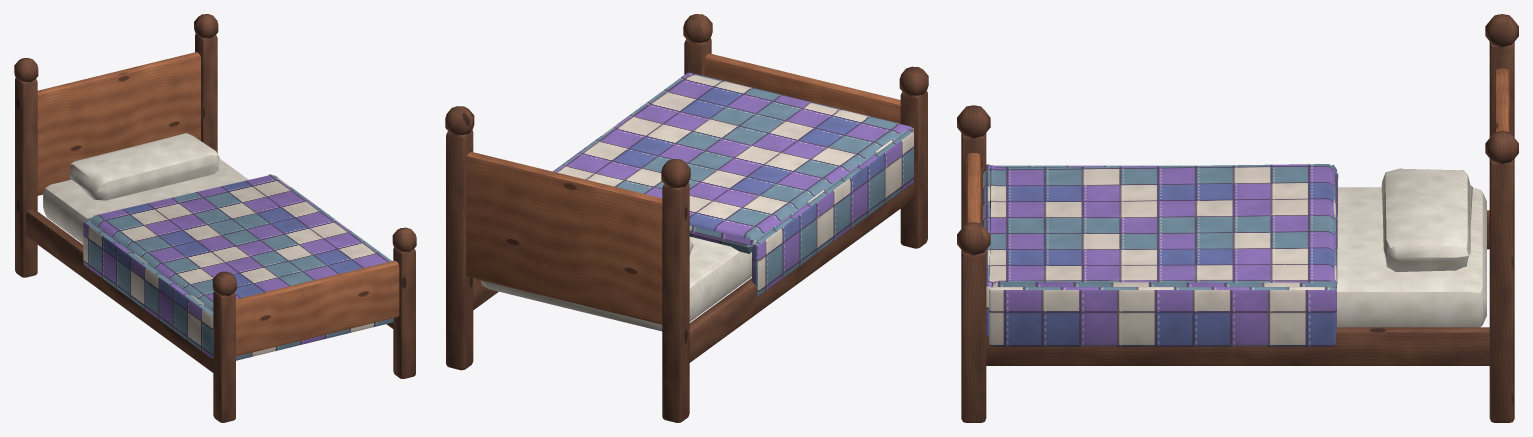
File: bed.gltf
3 views of the same model, side by side, from view 1: azimuth 30°, elevation 25°; view 2: azimuth 150°, elevation 25°; view 3: azimuth 270°, elevation 25° (orthographic). The views are drawn at different scales.
Parts seen in each view (by area): view 1: bed_mesh; view 2: bed_mesh; view 3: bed_mesh.
Part boxes in pixels (<box>): bed_mesh: <box>14,14,416,422</box>; bed_mesh: <box>445,14,928,422</box>; bed_mesh: <box>957,14,1518,422</box>.
Size of what is drawn, in the model's own units: 1.23 by 1.26 by 2.23.
Materials: 4 (4 with a texture image).
